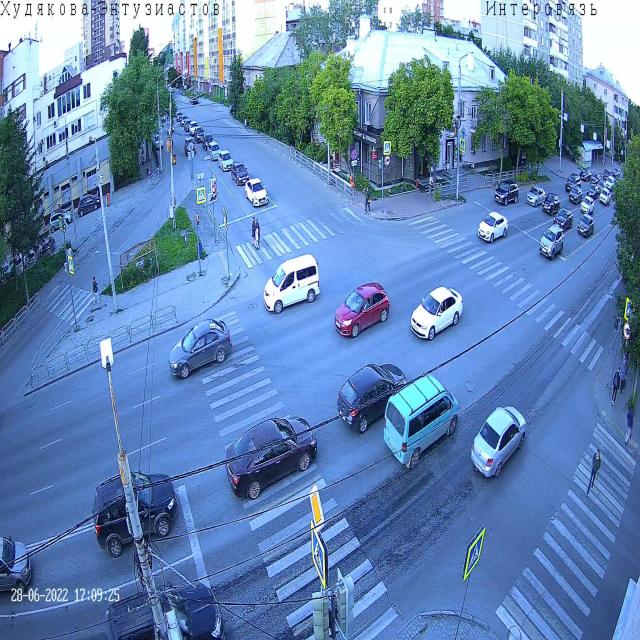car: (224, 414, 318, 502), (92, 468, 179, 560), (382, 371, 460, 471), (104, 577, 226, 640), (336, 362, 407, 436), (471, 404, 526, 479), (168, 318, 232, 380), (263, 254, 320, 315), (335, 281, 390, 339), (410, 285, 463, 342), (0, 534, 32, 596), (477, 210, 508, 244), (538, 223, 564, 262), (494, 179, 518, 207), (553, 206, 573, 233), (577, 212, 595, 240), (526, 184, 546, 208), (231, 162, 249, 187), (542, 192, 560, 216), (217, 150, 235, 172), (565, 172, 582, 194), (568, 184, 584, 207), (207, 140, 222, 162), (580, 194, 594, 216), (184, 137, 197, 157), (201, 133, 215, 151), (599, 187, 611, 207), (194, 125, 206, 144), (587, 183, 599, 201), (152, 133, 164, 150), (605, 175, 616, 193), (590, 171, 601, 188), (579, 168, 592, 182), (189, 121, 199, 137), (596, 180, 606, 195), (184, 119, 193, 133), (180, 114, 189, 127), (166, 122, 174, 135), (612, 167, 620, 180), (603, 168, 611, 181), (176, 110, 184, 122), (191, 96, 198, 105), (189, 95, 195, 104)
pedestrian: (585, 448, 601, 496), (624, 405, 634, 447), (611, 366, 621, 407), (619, 360, 627, 397), (92, 276, 101, 306), (363, 186, 371, 215), (255, 216, 260, 250), (254, 226, 260, 252), (252, 216, 257, 247), (428, 174, 434, 197), (350, 172, 355, 198), (433, 173, 438, 196), (146, 165, 151, 183), (141, 147, 145, 165), (244, 117, 248, 131), (142, 154, 144, 168)
